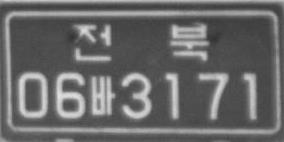0: (17, 71, 48, 118)
1: (159, 72, 187, 119), (237, 72, 264, 120)
3: (120, 71, 151, 119)
6: (54, 71, 86, 119)
7: (198, 71, 231, 119)
바: (90, 76, 115, 115)
전북_D: (73, 23, 210, 61)
